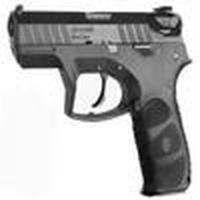gun: (4, 5, 200, 193)
